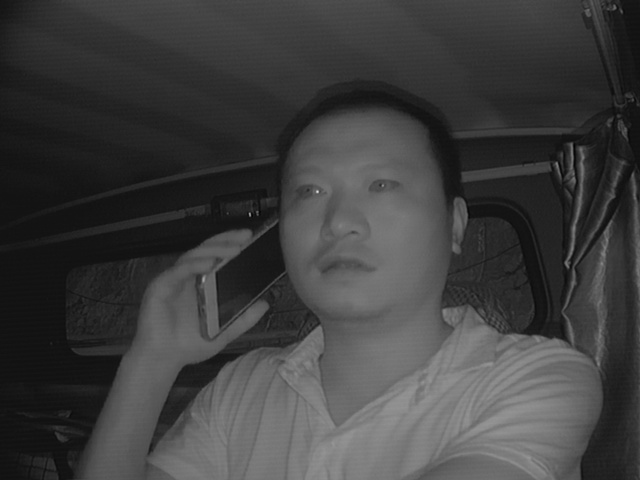hand: (143, 237, 271, 362)
